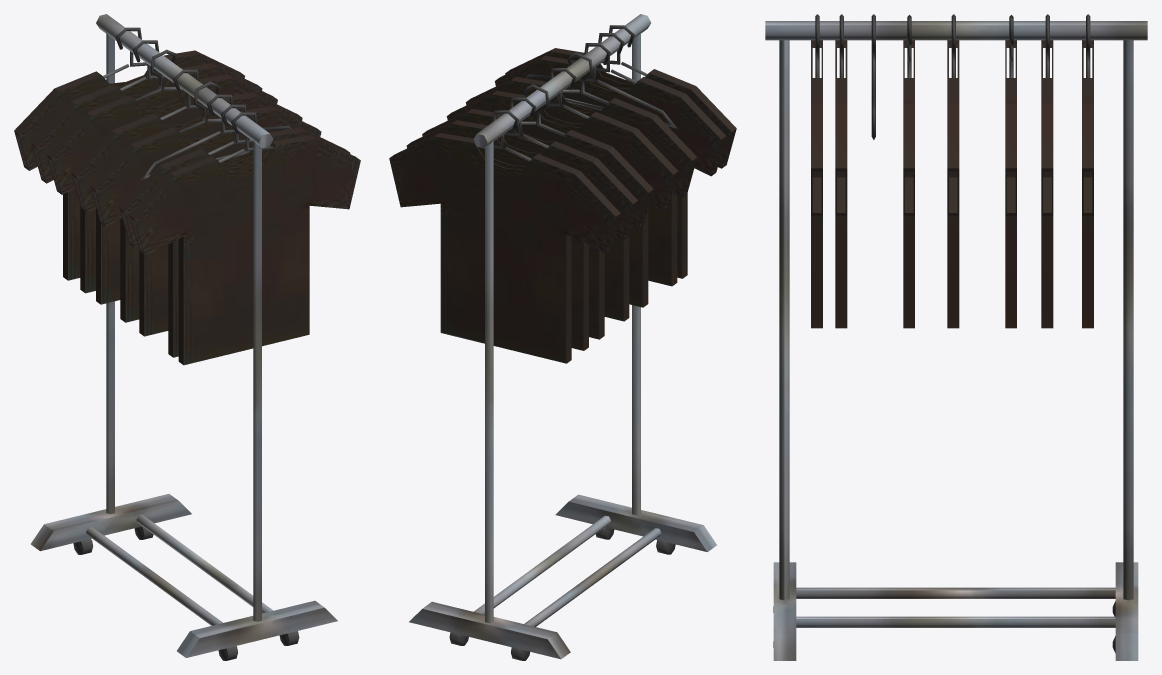
File: clothes_rack.FBX
3 views of the same model, side by side, from view 1: azimuth 30°, elevation 25°; view 2: azimuth 150°, elevation 25°; view 3: azimuth 270°, elevation 25° (orthographic). The views are drawn at different scales.
Visible parts, largest first — view 1: clothes_rack; view 2: clothes_rack; view 3: clothes_rack.
Boxes of the visible parts, left/top/right/bottom form: clothes_rack: left=14, top=14, right=360, bottom=660; clothes_rack: left=389, top=14, right=736, bottom=660; clothes_rack: left=765, top=14, right=1147, bottom=660.
Size of the model in its own units: 35.95 by 80.61 by 44.96.
